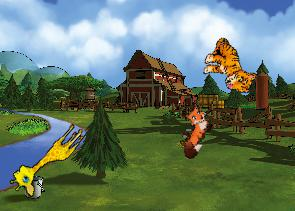fox: (164, 99, 220, 161)
giraffe: (5, 114, 88, 201)
tiger: (197, 34, 264, 97)
